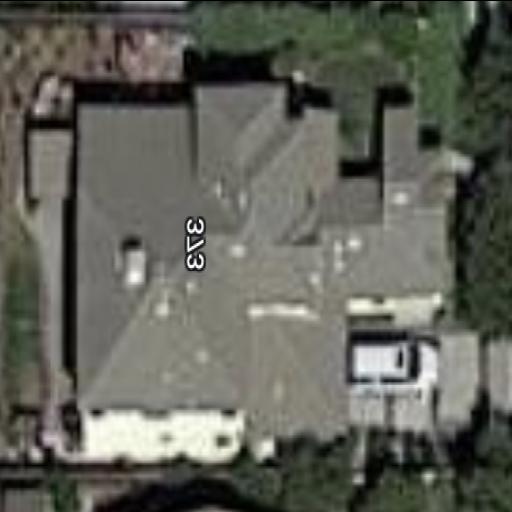Slope-Roof: (78, 90, 452, 425)
